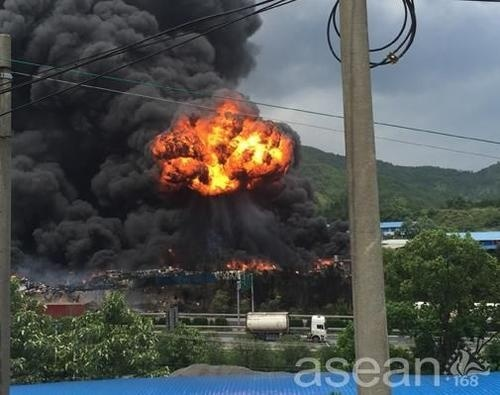fire: (152, 100, 294, 195), (225, 256, 278, 271)
